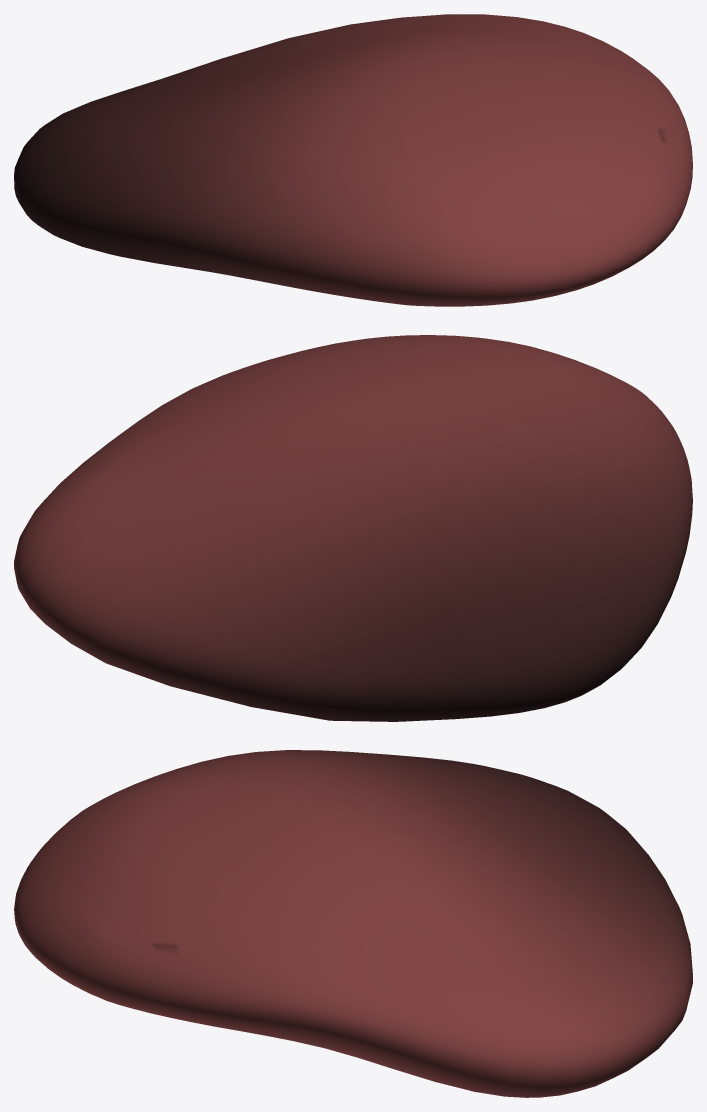
The model's file is common.glb.
The picture shows the model from 3 angles, top to bottom: view 1: azimuth 30°, elevation 25°; view 2: azimuth 150°, elevation 25°; view 3: azimuth 270°, elevation 25°; orthographic projection.
Visible parts, largest first — view 1: tongue; view 2: tongue; view 3: tongue.
Part boxes in pixels (x1,y1,x2,y2): tongue: (14, 14, 692, 306); tongue: (14, 335, 692, 721); tongue: (14, 750, 692, 1097).
Bounding box in the file's own units: 0.155 × 0.0499 × 0.1591.
Materials: 1 (1 with a texture image).
